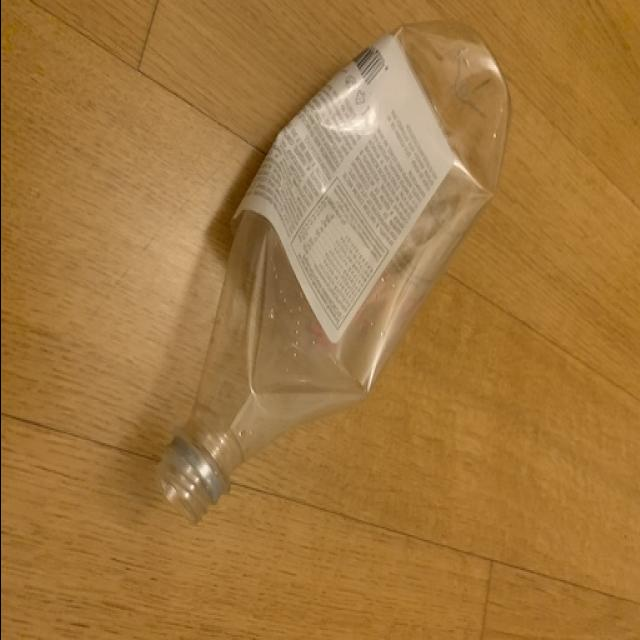PET: (145, 19, 514, 544)
